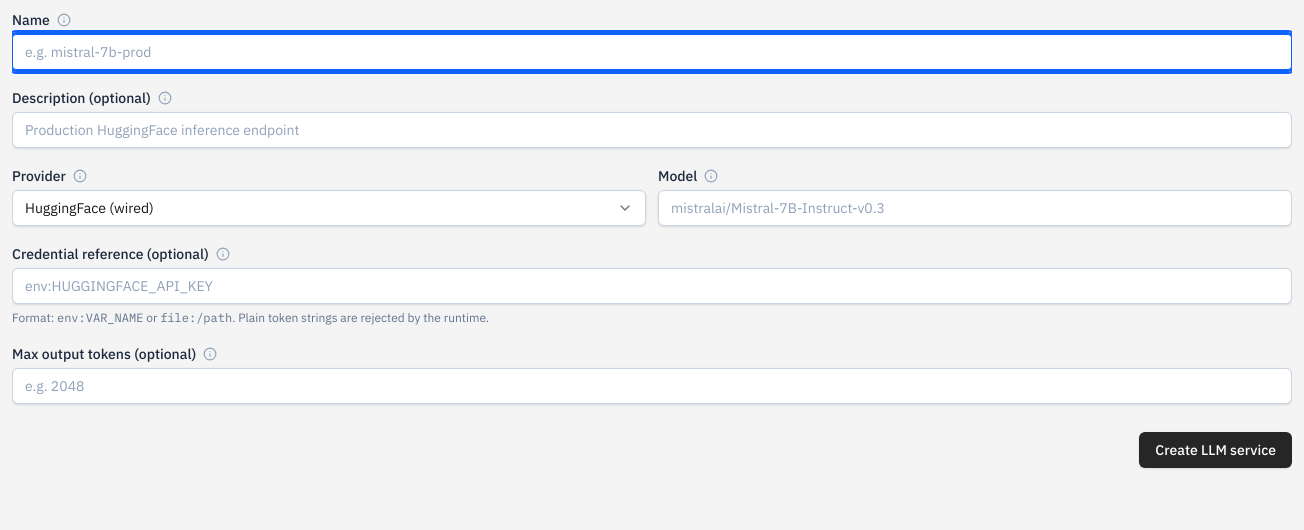
Test: LlmServiceForm › blocks submit when name and model are blank
Click the button "Create LLM service" at (1216, 450), box [1139,432,1292,468]
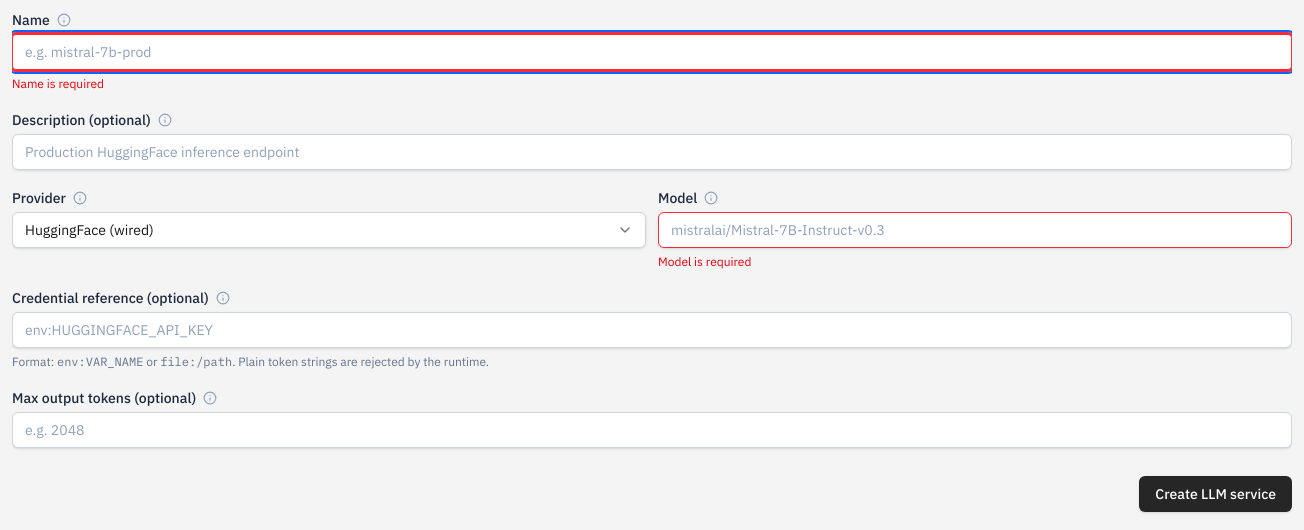
Now the text "Name is required" is shown, box [12,76,104,91]
Now the text "Model is required" is shown, box [658,254,751,269]
